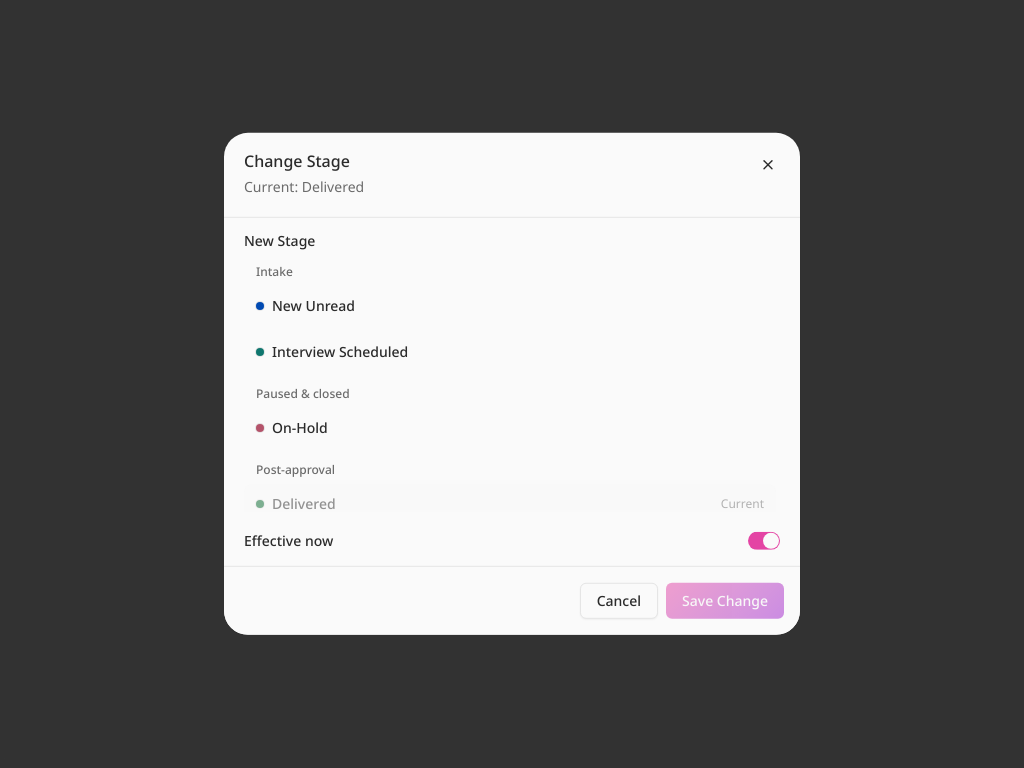
Scenario: ChangeStageModal › shows immediate-apply copy for regressions with self-approval capability
Click the button "New Unread".
click(314, 305)  # box x1=244 y1=286 x2=776 y2=326
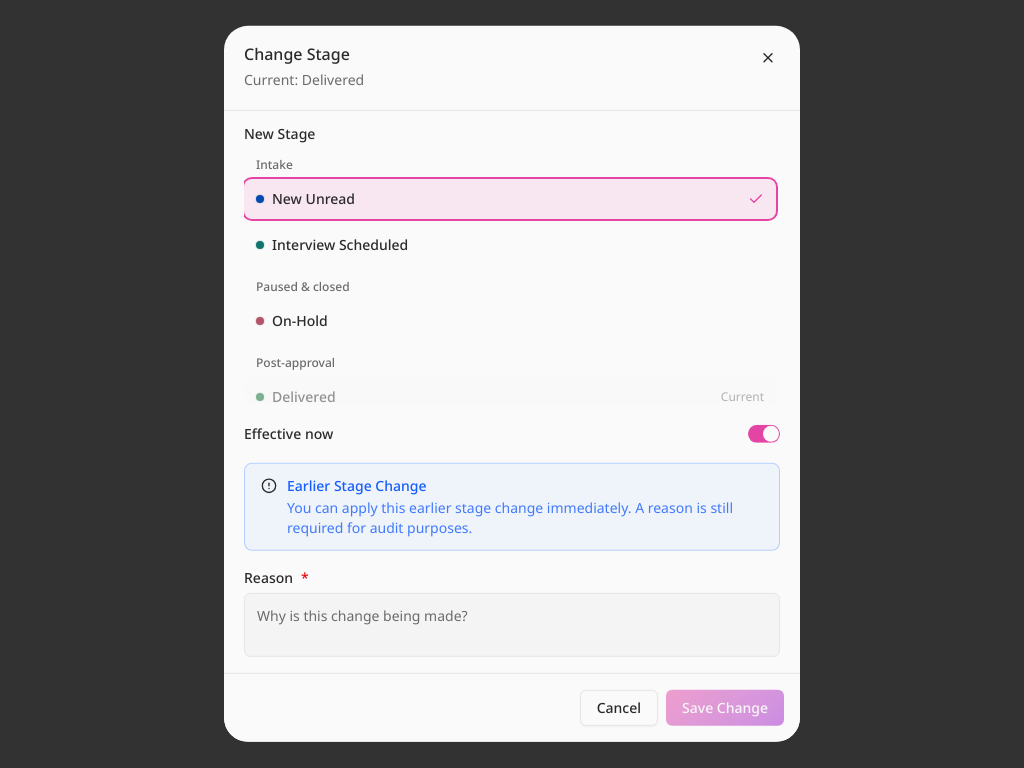
Expected: the button "Save Change" is shown, x1=666 y1=690 x2=784 y2=726
Now the text "Earlier Stage Change" is shown, box x1=287 y1=476 x2=426 y2=495
Now the text "You can apply this earlier stage change immediately" is shown, box x1=287 y1=498 x2=733 y2=537
